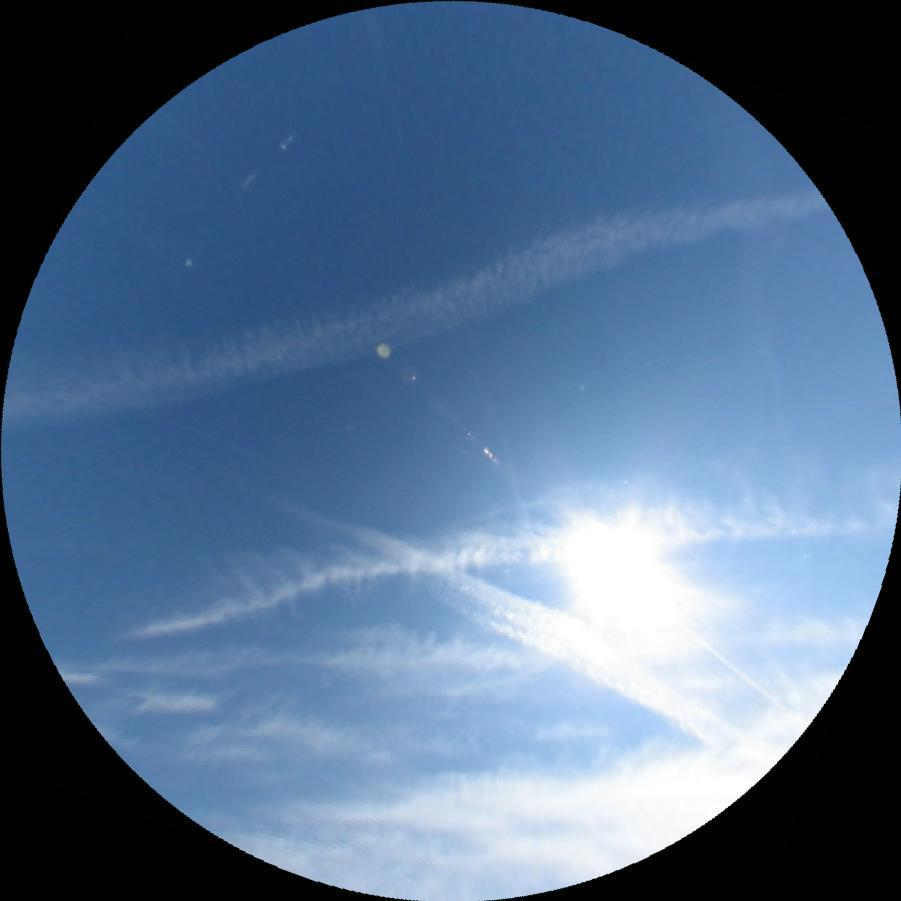contrail veryold: (0, 150, 830, 454), (259, 465, 759, 760), (110, 455, 891, 638)
parasite: (182, 68, 344, 267), (28, 359, 271, 462), (662, 607, 807, 729)
sun: (575, 514, 693, 630)
